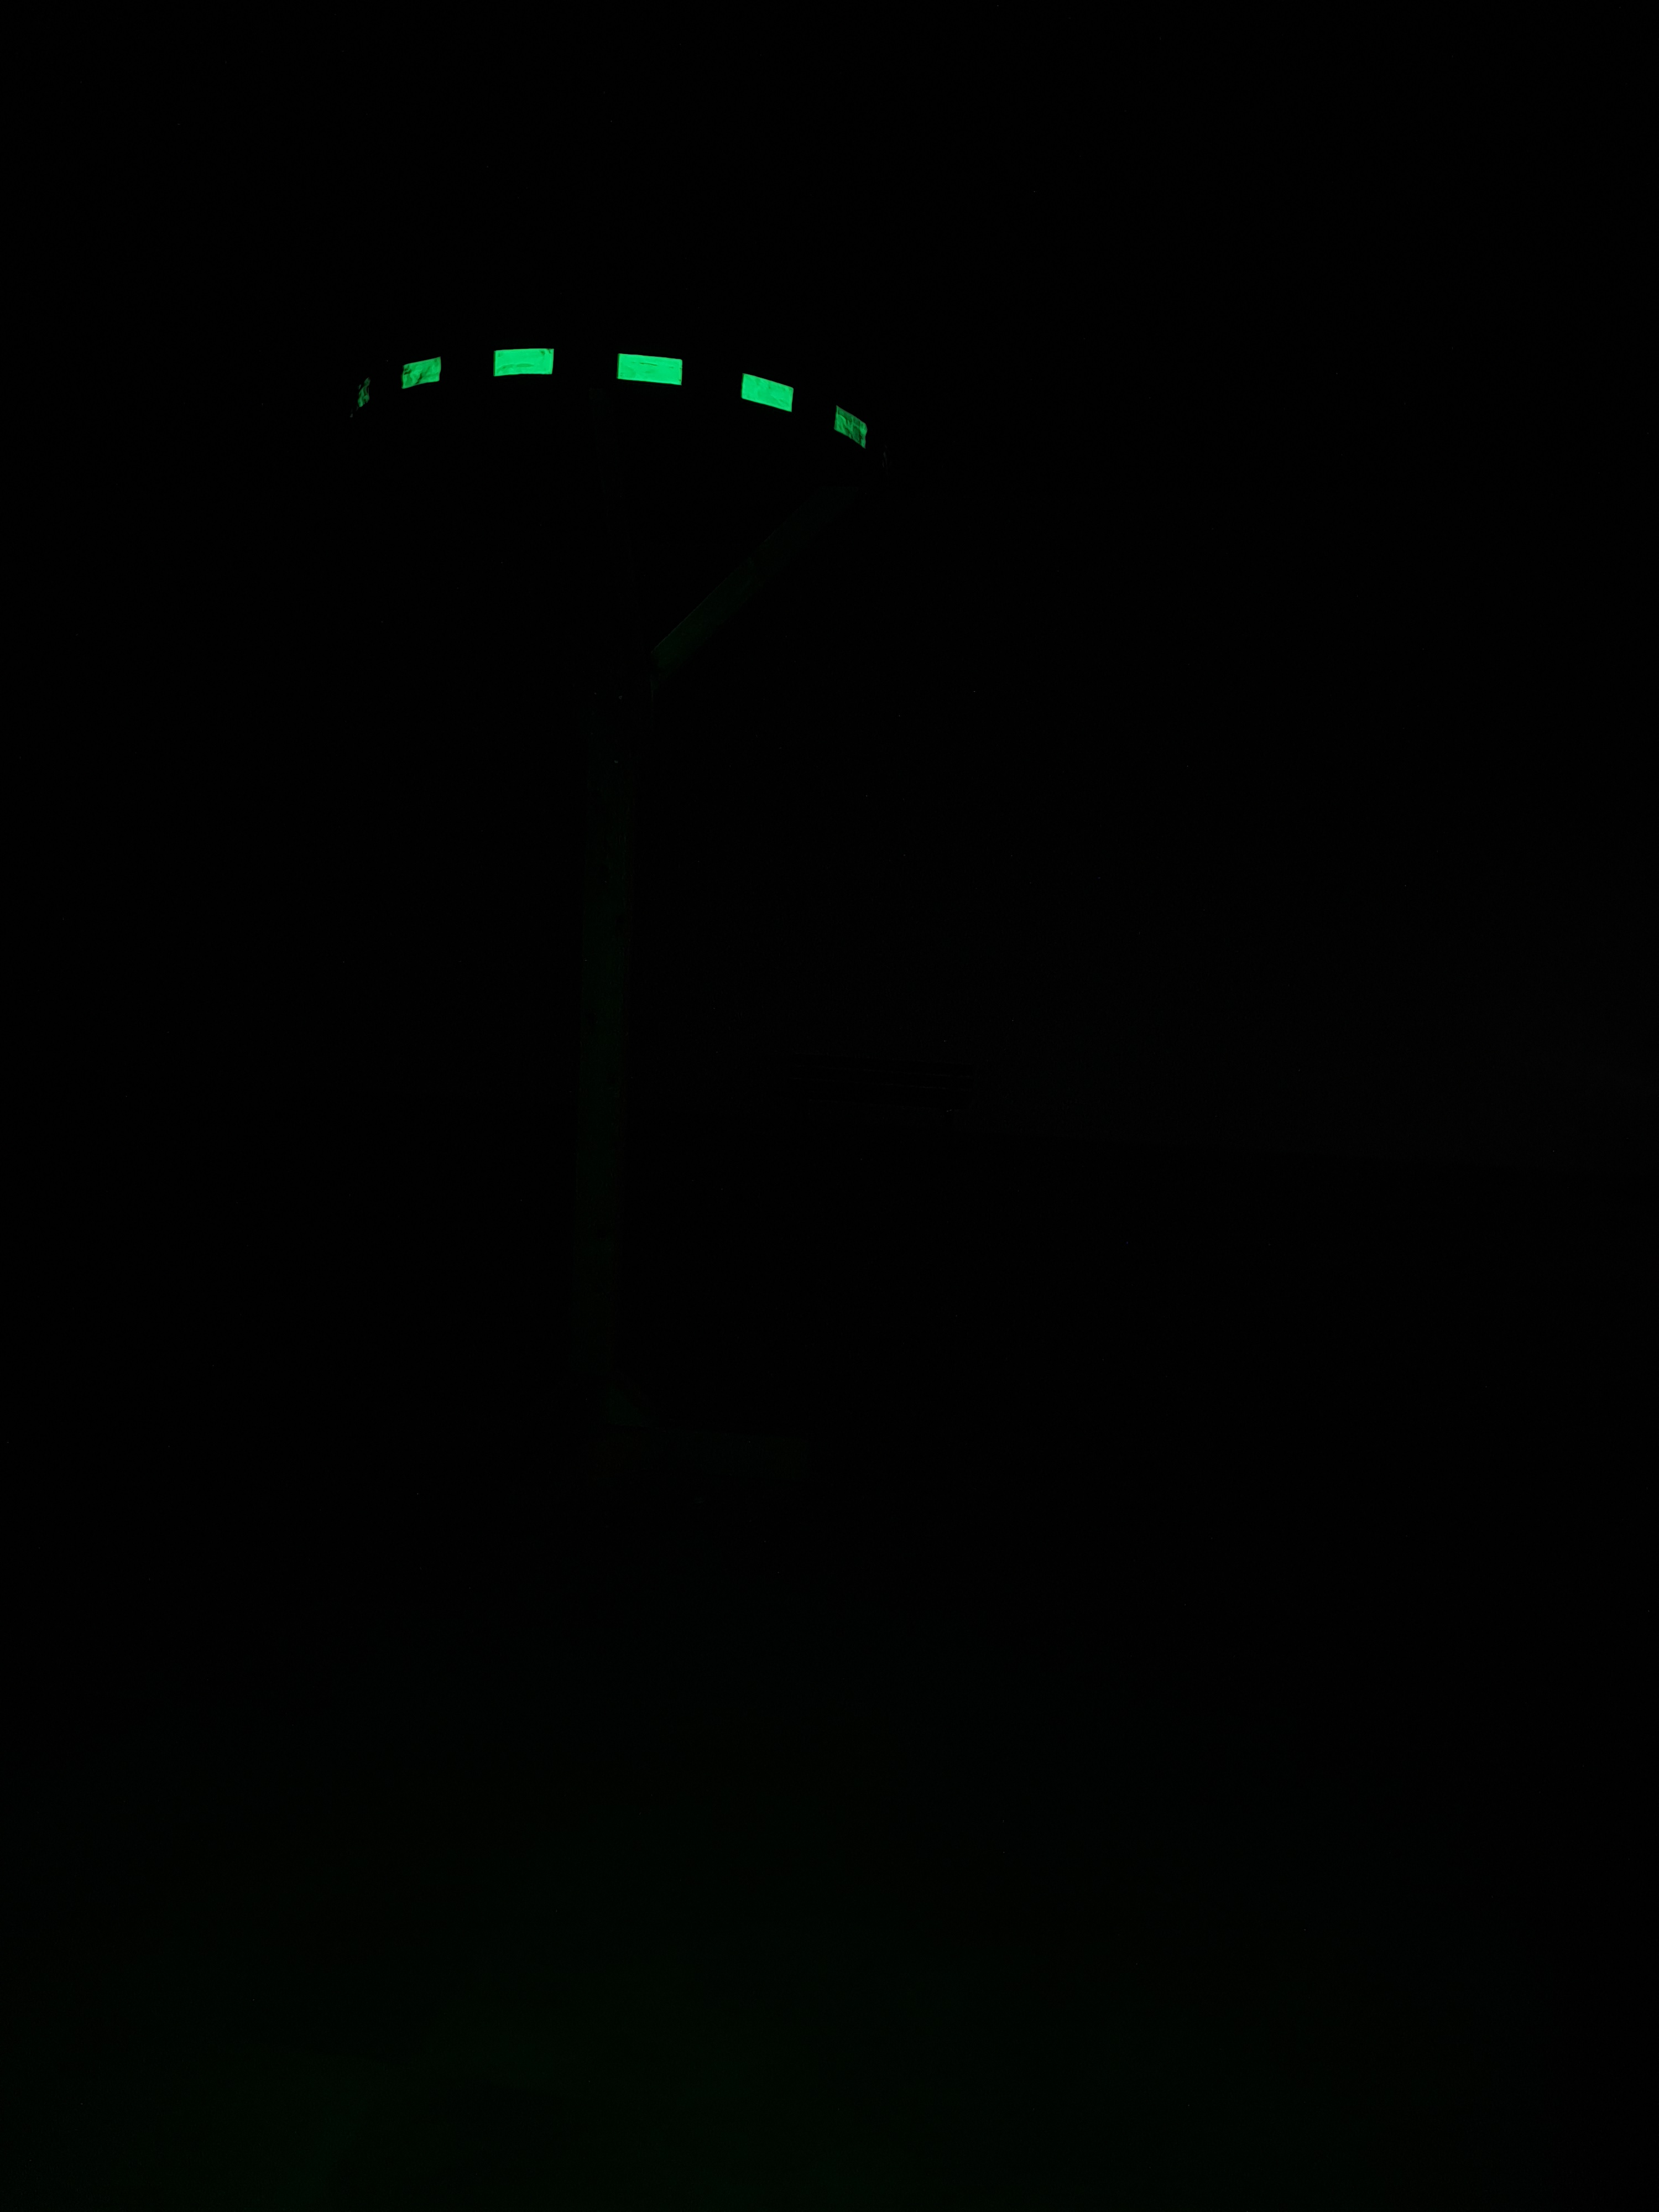hoop: (343, 331, 870, 460)
